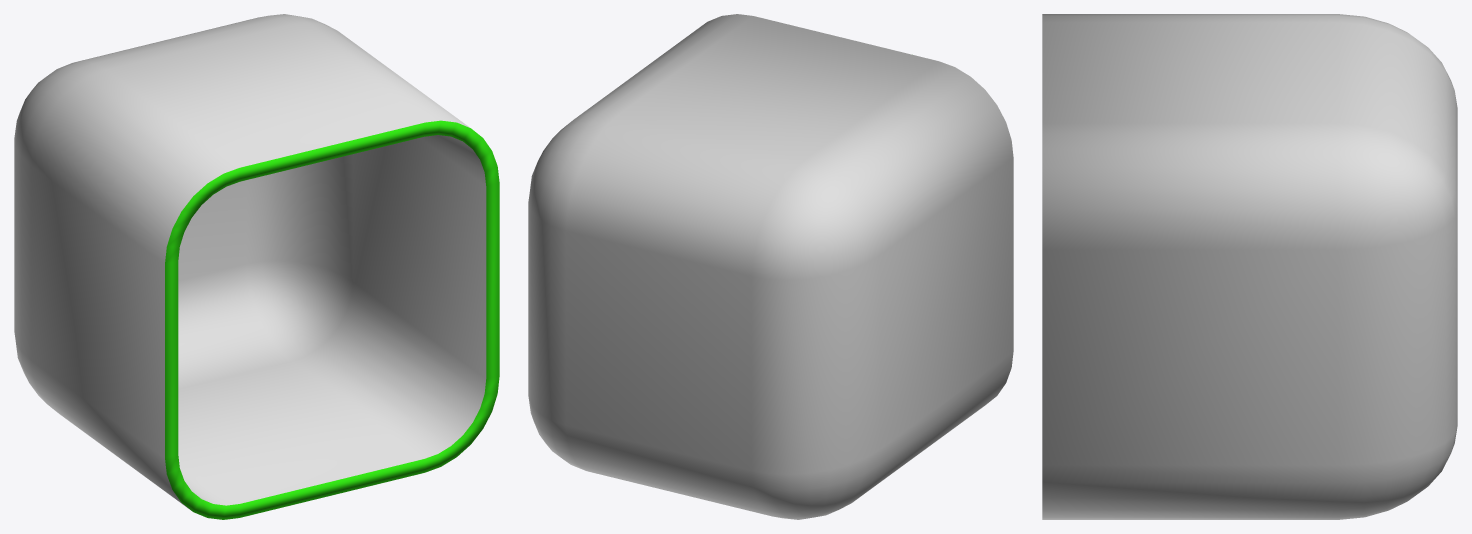
File: Socket.fbx
The picture shows the model from 3 angles, left to right: view 1: azimuth 30°, elevation 25°; view 2: azimuth 150°, elevation 25°; view 3: azimuth 270°, elevation 25°; orthographic projection. The views are drawn at different scales.
Parts seen in each view (by area): view 1: Socket; view 2: Socket; view 3: Socket.
Part boxes in pixels (box(x1,y1,x2,y2)): Socket: box(14, 14, 499, 519); Socket: box(528, 14, 1013, 519); Socket: box(1042, 14, 1457, 519).
Bounding box in the file's own units: 228 × 228 × 221.
